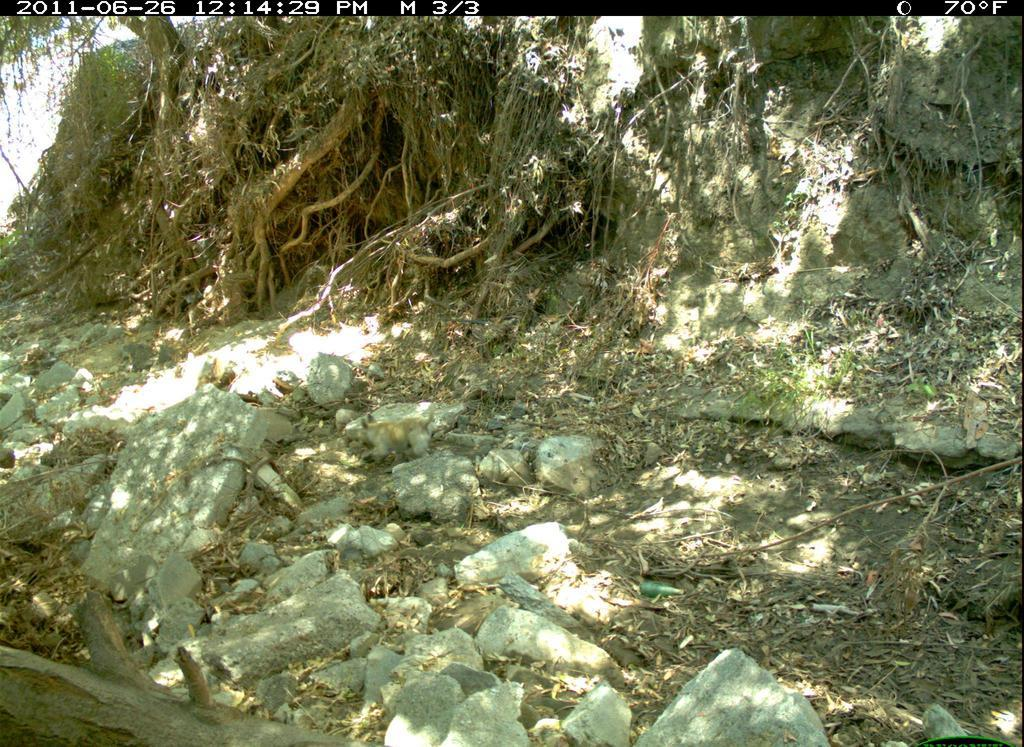dog: (350, 401, 457, 481)
